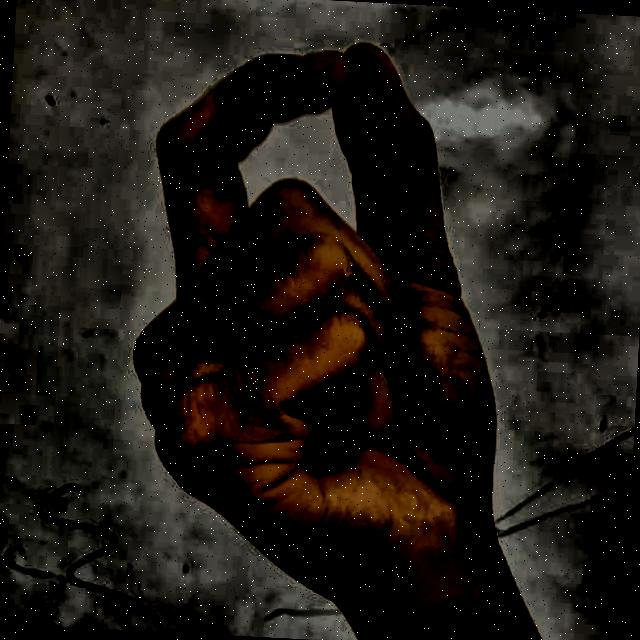Gha: (63, 16, 589, 640)
